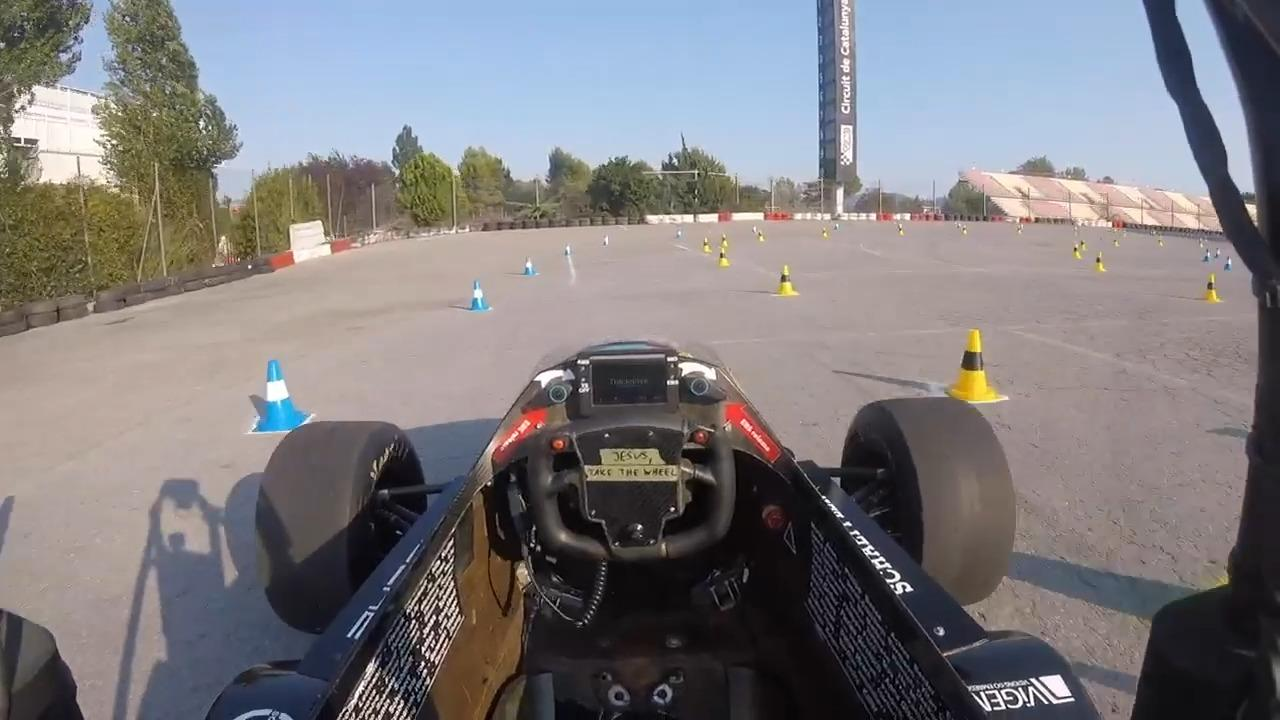blue_cone: (245, 358, 310, 438), (462, 276, 490, 312), (520, 255, 539, 282), (601, 232, 613, 249), (1224, 256, 1235, 271), (563, 241, 572, 257), (1202, 249, 1212, 263), (675, 225, 684, 239)
yellow_cone: (942, 327, 1009, 406), (774, 266, 801, 299), (1202, 273, 1219, 306), (1090, 251, 1108, 276), (718, 246, 730, 268), (700, 235, 713, 255), (720, 232, 732, 247), (1072, 241, 1081, 260), (756, 229, 765, 243), (820, 228, 828, 238), (897, 226, 904, 236)
